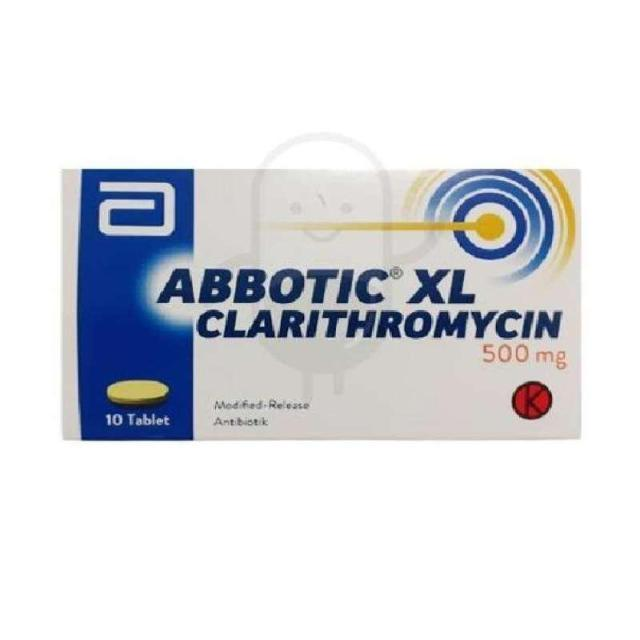drug-name: (153, 264, 477, 306)
